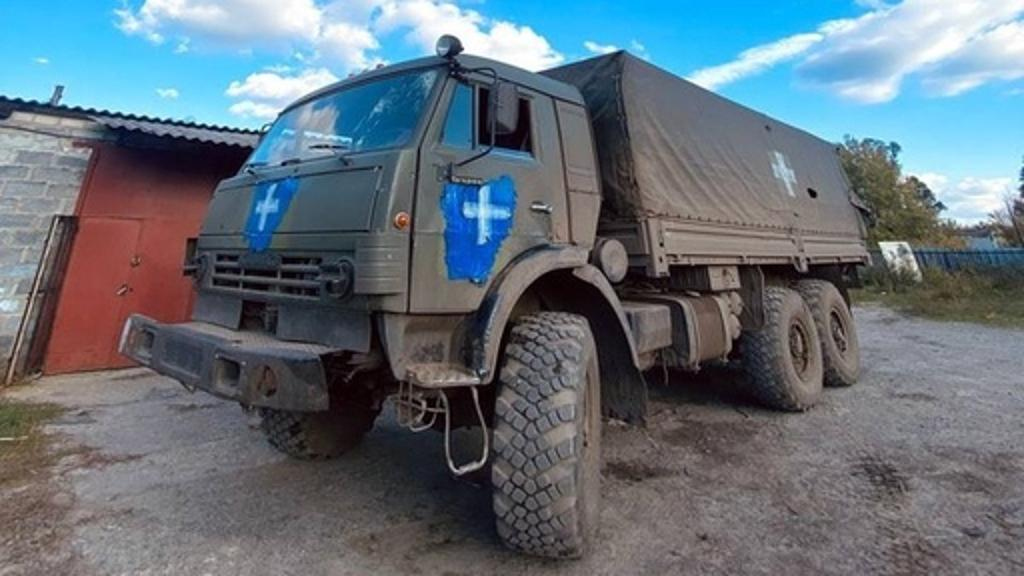TRUCK: (114, 32, 872, 562)
